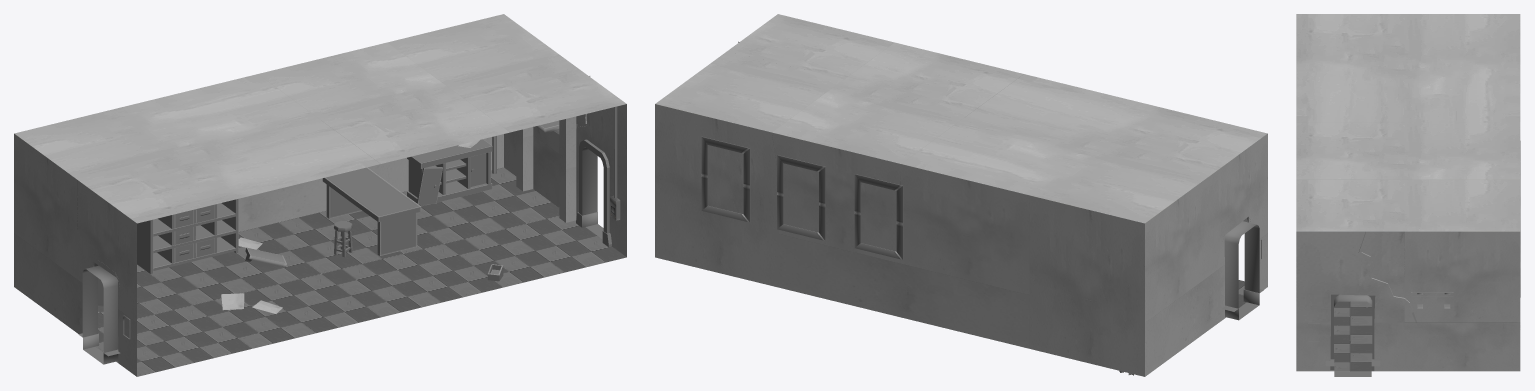
Rendered from MSH_QuestStandard_L6_R2_optimized.fbx.
3 renders of one model, left to right at view 1: azimuth 30°, elevation 25°; view 2: azimuth 150°, elevation 25°; view 3: azimuth 270°, elevation 25°, orthographic. The views are drawn at different scales.
Parts seen in each view (by area): view 1: lightmap0, lightmap2, lightmap5, lightmap3, MSH_QuestStandard_L6_R2_papers_01, lightmap1; view 2: lightmap5, lightmap0, lightmap1; view 3: lightmap0, lightmap5, lightmap2, lightmap3.
Part boxes in pixels (x1,y1,x2,y2): lightmap0: (14,14,626,364); lightmap2: (96,167,626,376); lightmap5: (14,76,626,376); lightmap3: (98,120,620,339); MSH_QuestStandard_L6_R2_papers_01: (221,140,479,313); lightmap1: (492,106,617,198); lightmap5: (655,41,1267,376); lightmap0: (655,14,1267,320); lightmap1: (701,136,1133,375); lightmap0: (1296,14,1520,376); lightmap5: (1296,231,1520,371); lightmap2: (1330,301,1374,371); lightmap3: (1308,292,1453,341).
Size of the model in its own units: 20.61 by 6.03 by 8.55.
